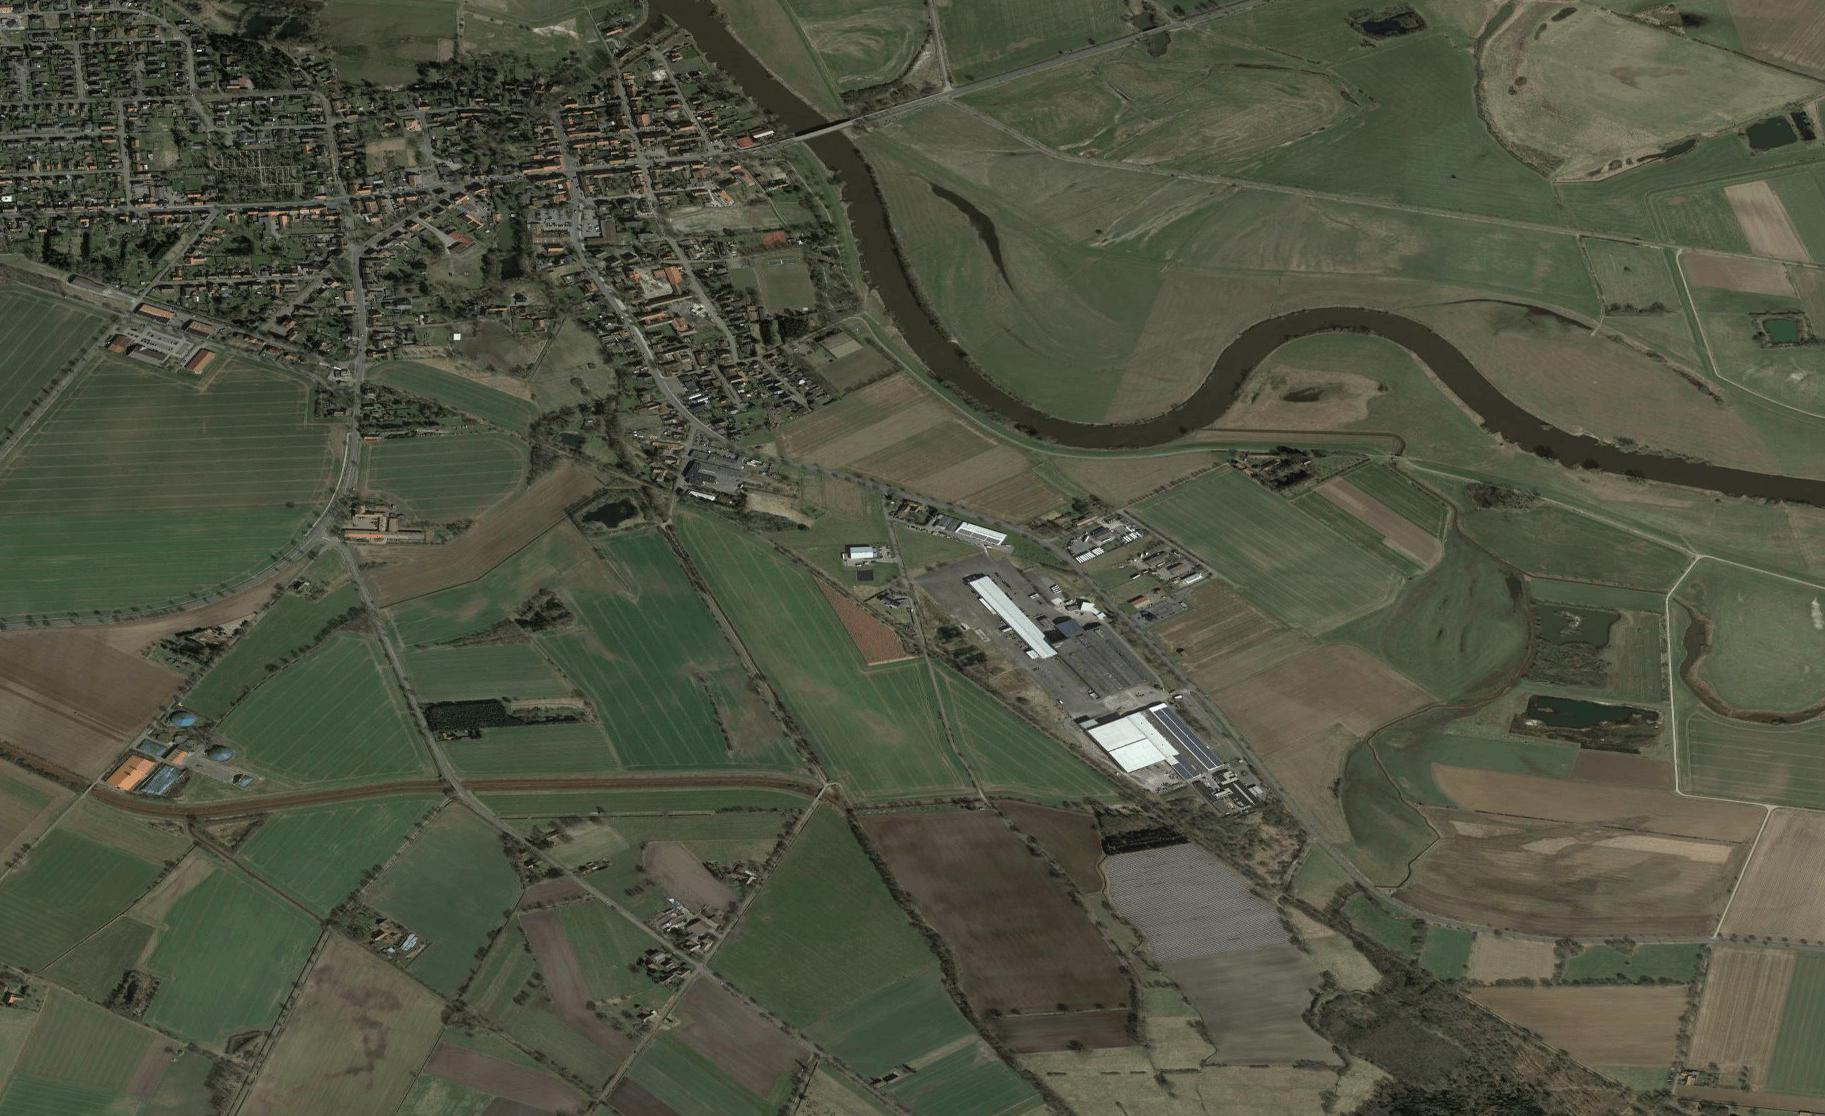bridge: (798, 116, 842, 143)
industrial: (949, 553, 1232, 807)
